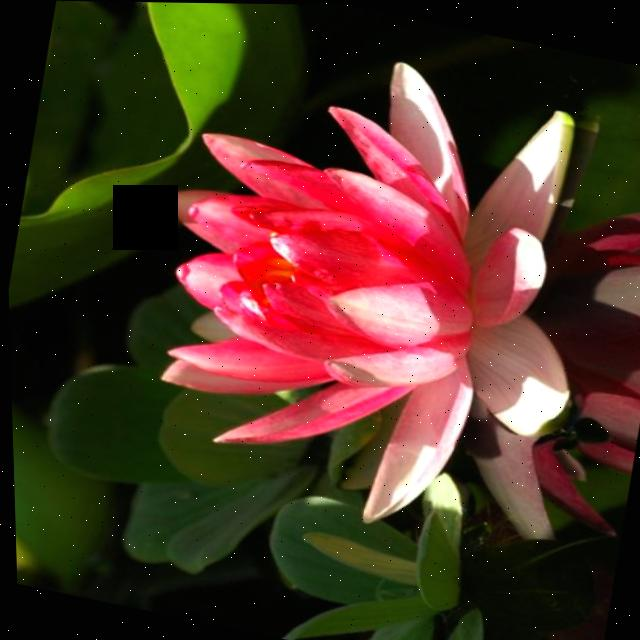rose: (22, 0, 640, 585)
